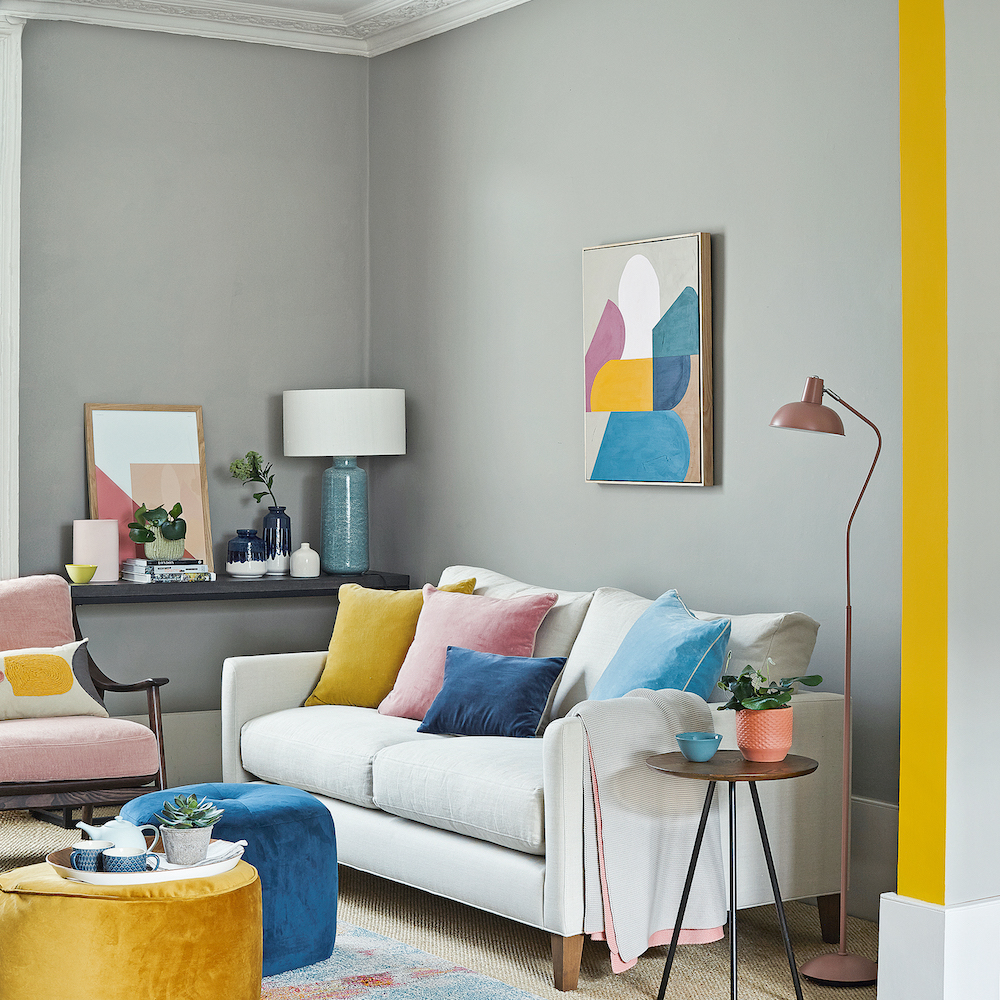biru: (231, 788, 337, 969), (609, 597, 718, 695), (437, 649, 542, 735), (320, 462, 374, 578), (675, 728, 720, 763)
kuning: (3, 880, 263, 1000), (315, 588, 402, 704)
pink: (1, 579, 142, 774), (733, 714, 799, 764)
putih: (281, 386, 411, 462), (72, 520, 118, 583), (291, 547, 320, 577)
